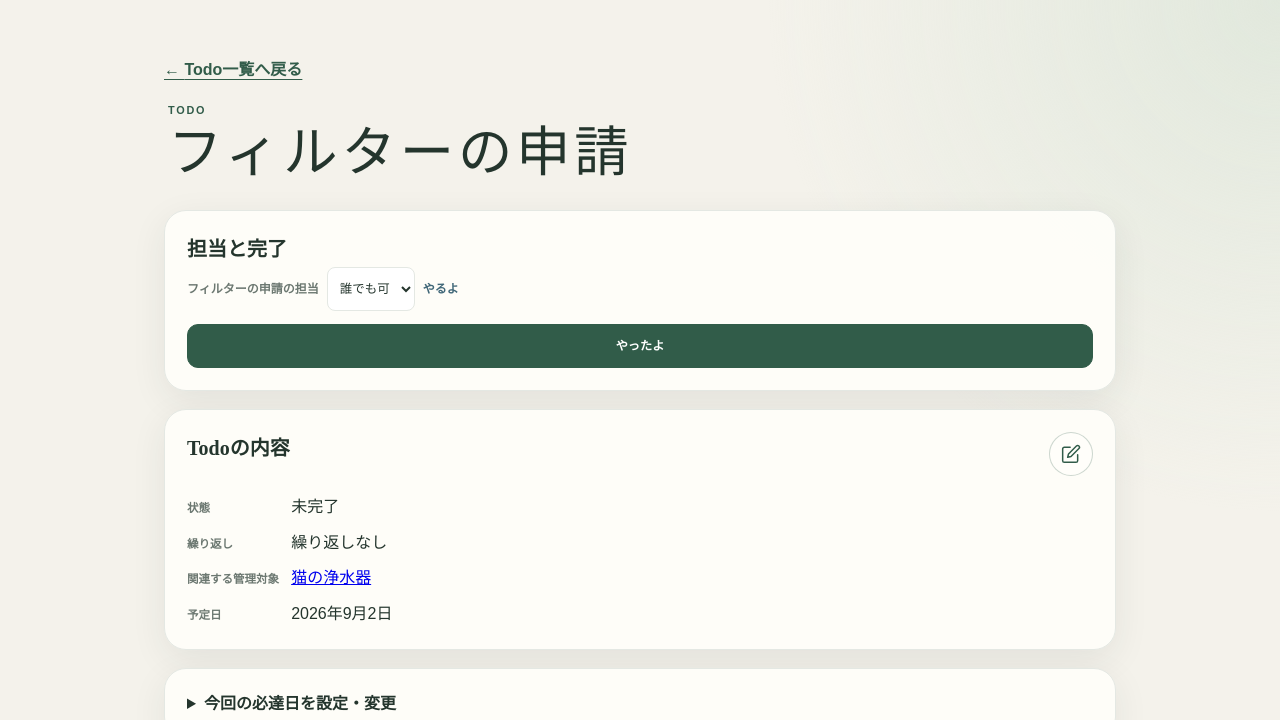
Test: 未完了Todoの詳細からの担当操作(Issue #392) › 担当の変更が失敗すると、詳細画面にそのまま理由を表示する
Step 1. Select "たろう" in the dropdown → point(371, 289), box top-left (327, 267), bottom-right (415, 311)
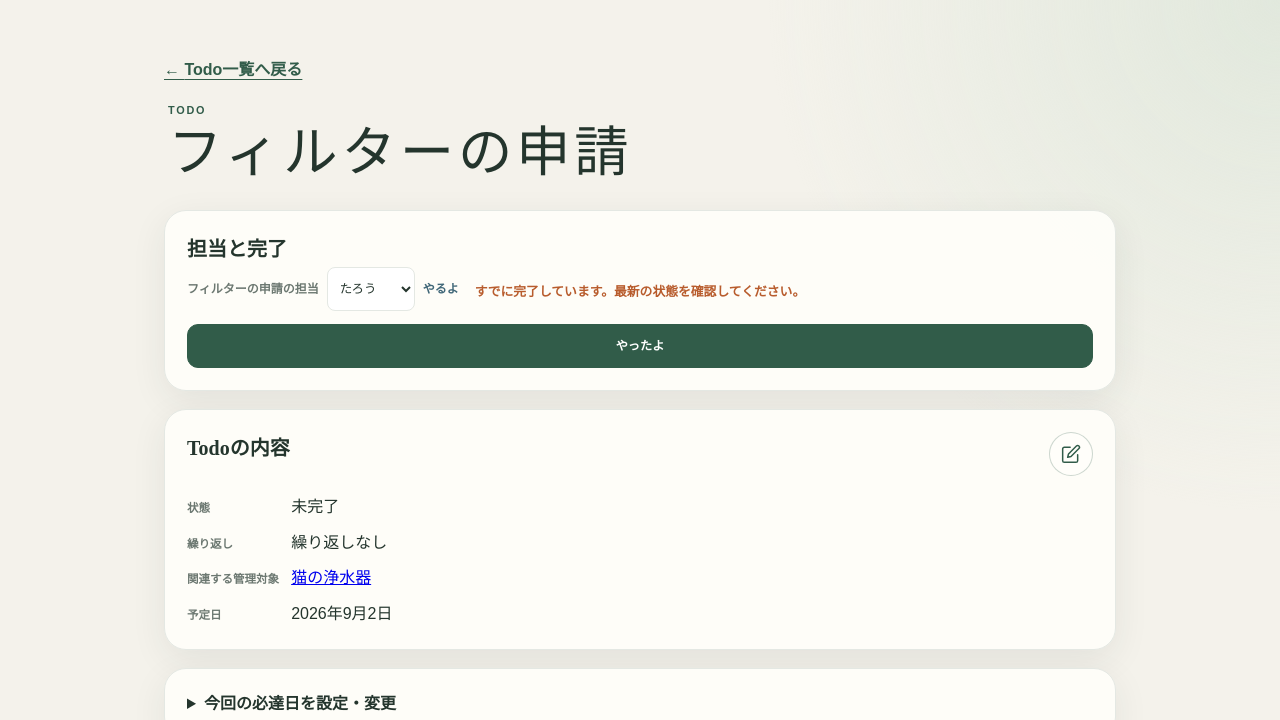
Now the message reads "すでに完了しています。最新の状態を確認してください。", box top-left (475, 284), bottom-right (805, 299)
